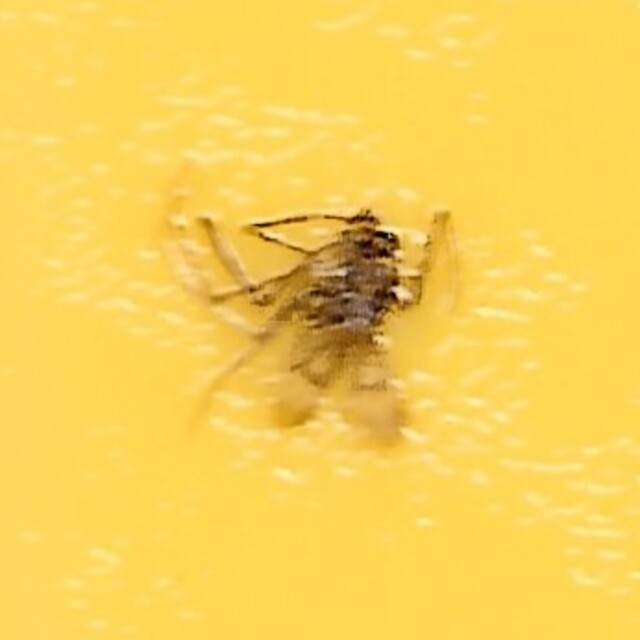Nematocera: (185, 179, 455, 461)
